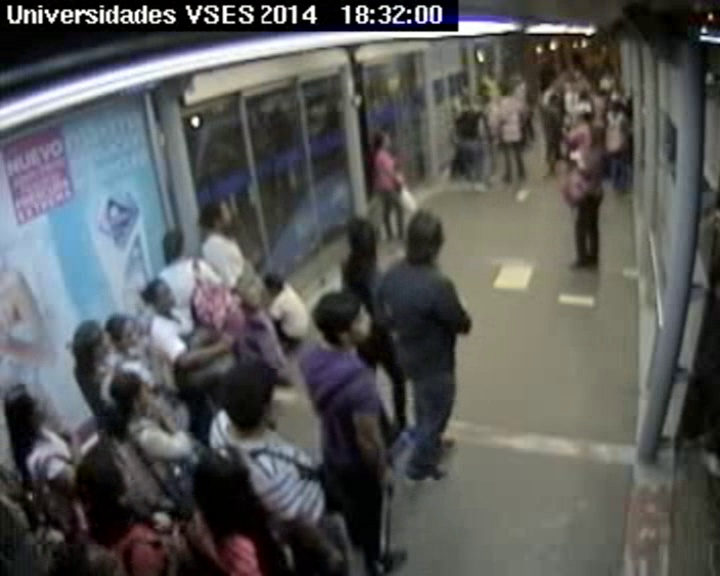person: (221, 362, 281, 428), (313, 291, 375, 351), (194, 452, 251, 516), (78, 453, 131, 505), (403, 209, 451, 261), (7, 384, 47, 428), (109, 371, 149, 410), (342, 218, 378, 257), (72, 321, 108, 360), (107, 314, 141, 351), (143, 279, 176, 316), (200, 199, 234, 234), (163, 232, 188, 260), (263, 270, 284, 293), (374, 131, 391, 149), (499, 84, 512, 98), (458, 98, 471, 112), (478, 84, 490, 97), (470, 99, 482, 112), (584, 147, 596, 160), (568, 139, 579, 150), (611, 103, 621, 114), (579, 90, 589, 100), (596, 86, 606, 96), (579, 113, 588, 124), (486, 70, 495, 80), (550, 95, 559, 105), (574, 68, 583, 78), (605, 66, 614, 75), (527, 72, 535, 81), (551, 79, 559, 88)
